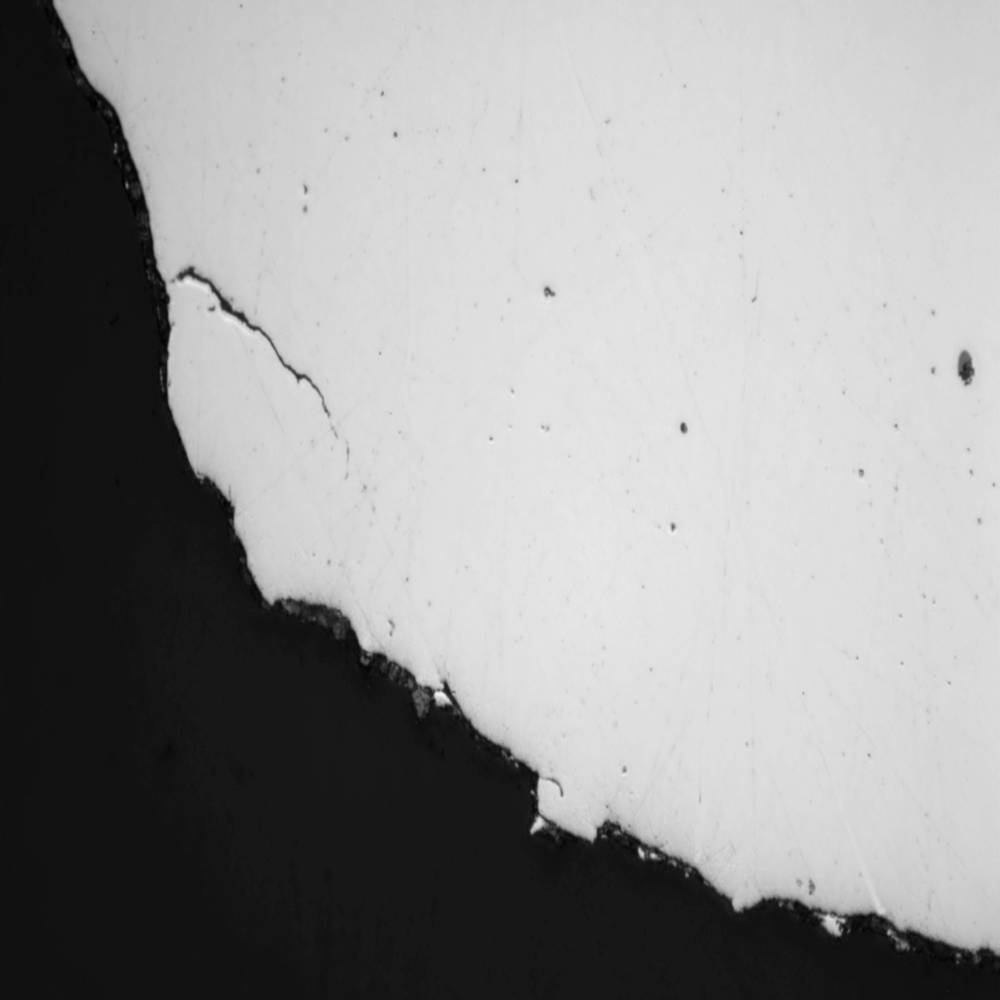crack: (135, 247, 408, 528)
